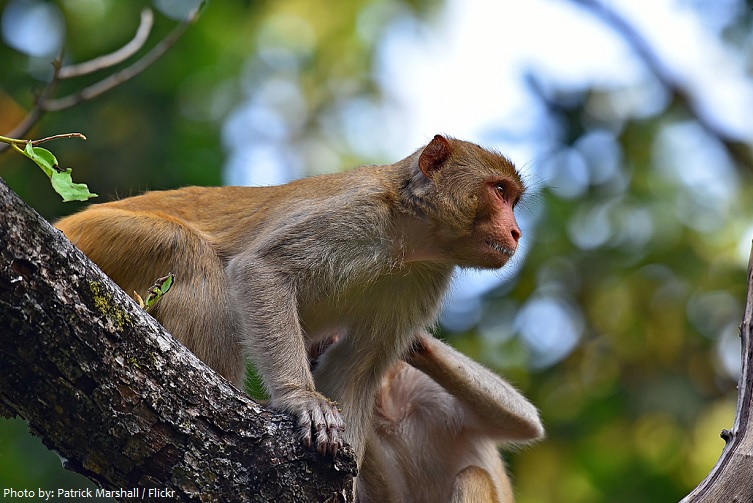monkey: (32, 131, 523, 445), (295, 304, 547, 503)
